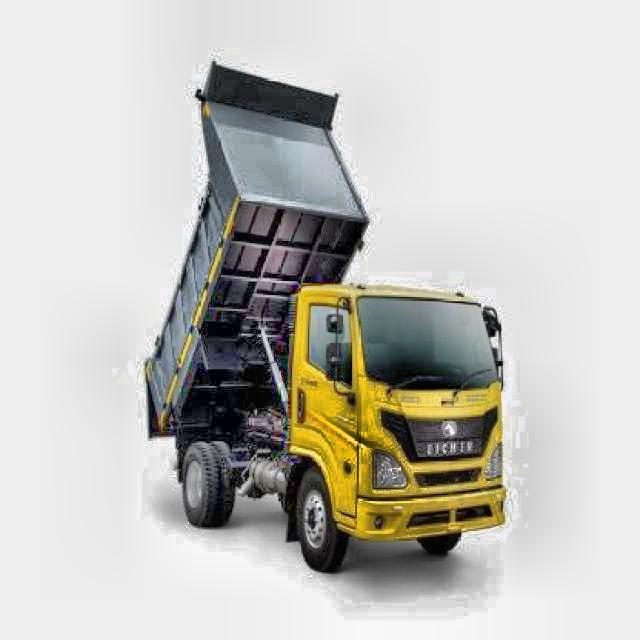dump_truck: (145, 62, 510, 593)
